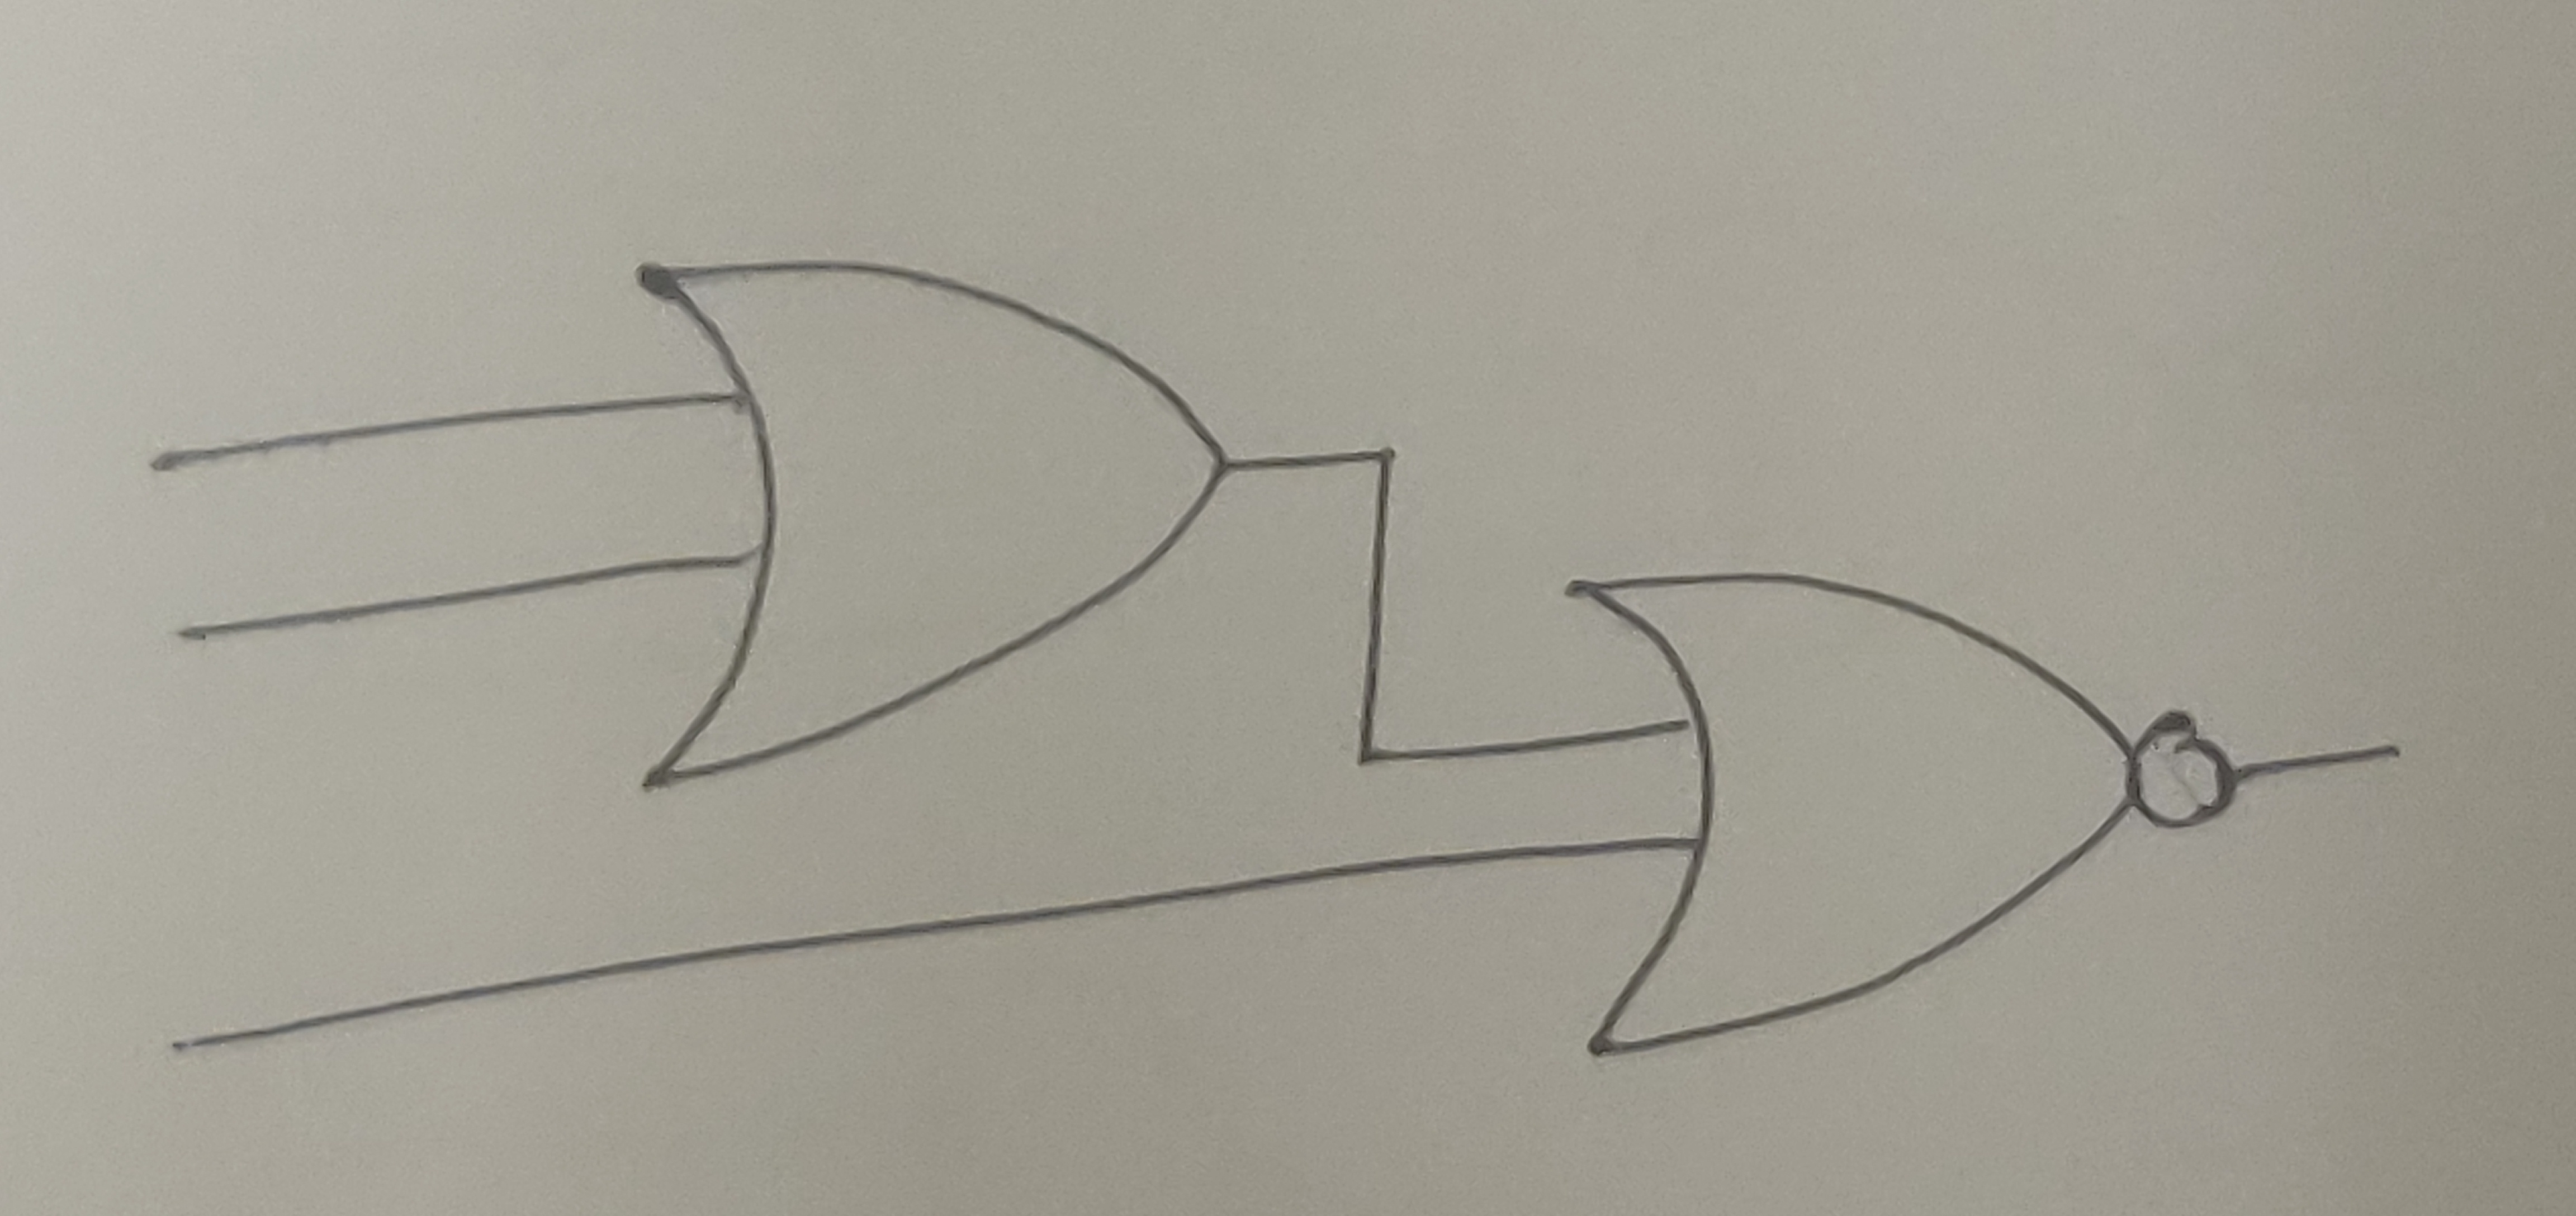not: (2119, 710, 2247, 841)
or: (623, 246, 1239, 795), (1554, 572, 2139, 1055)
